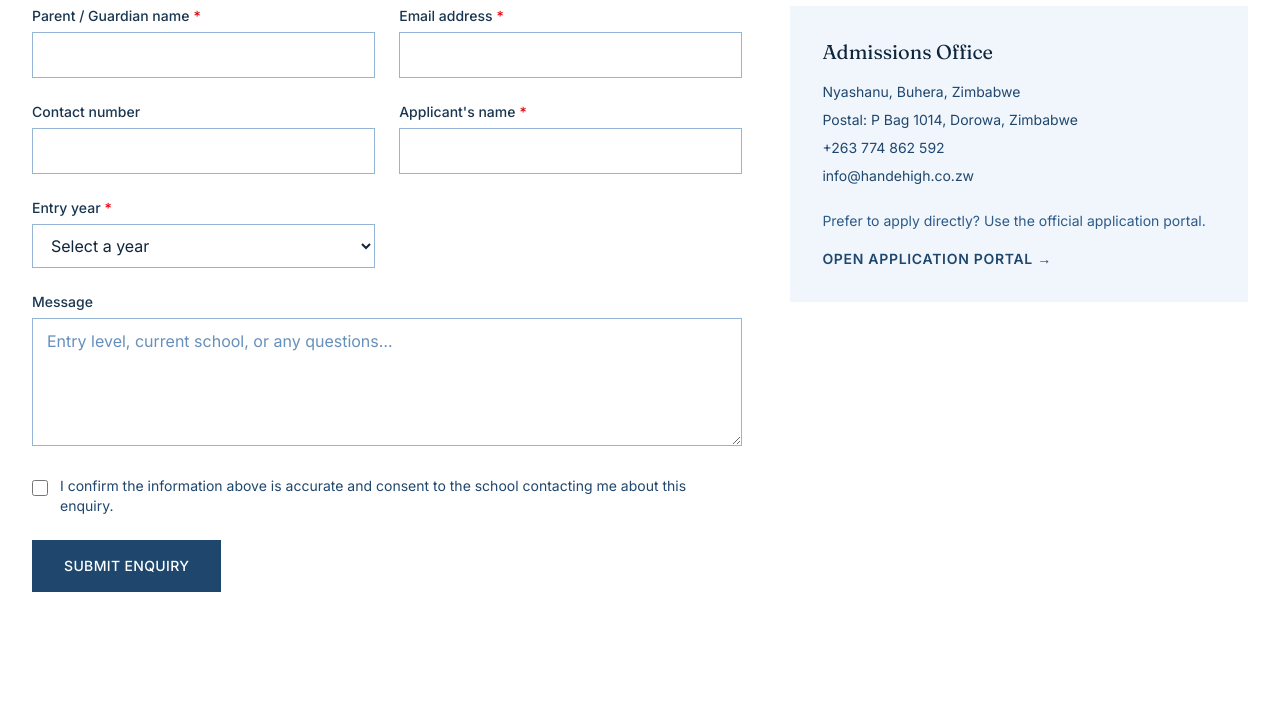
Test case: pages › ApplyPage shows validation errors on empty submit
(page scrolled)
Click the button "Submit Enquiry". click: (127, 566)
box: [32,540,221,592]
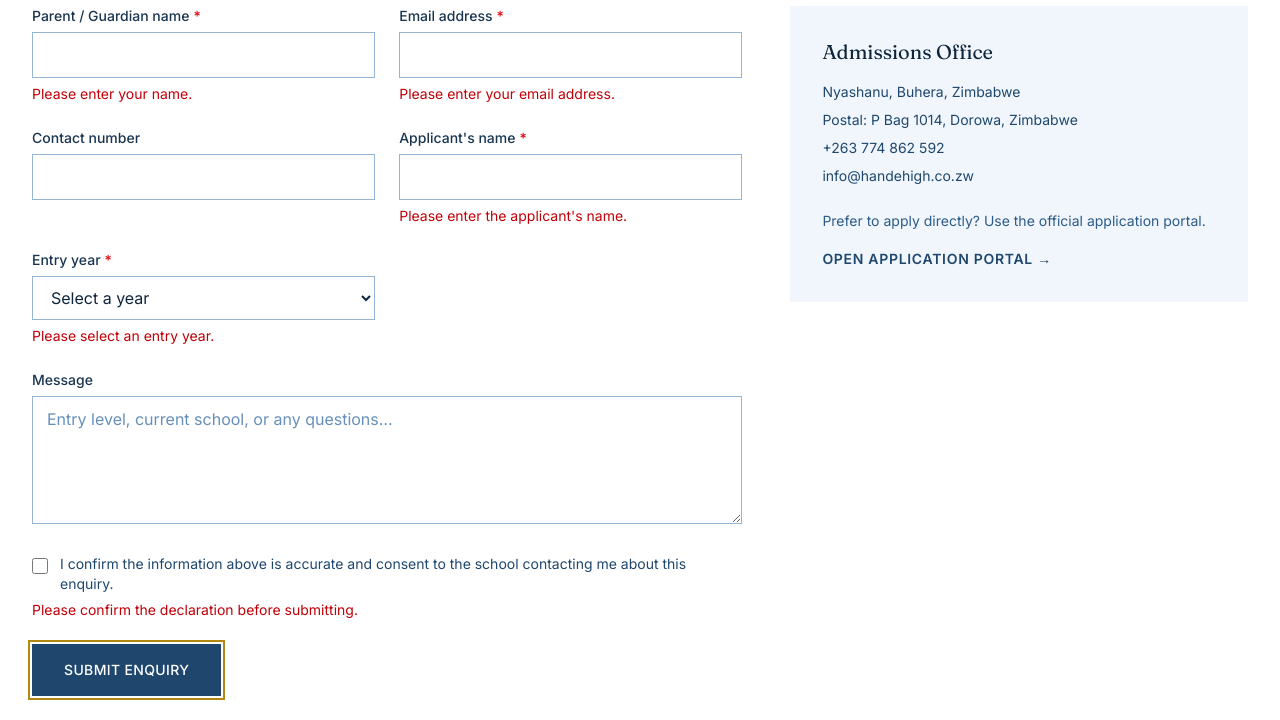
Check: the text "Please enter your name." is shown, box [32,85,192,102]
